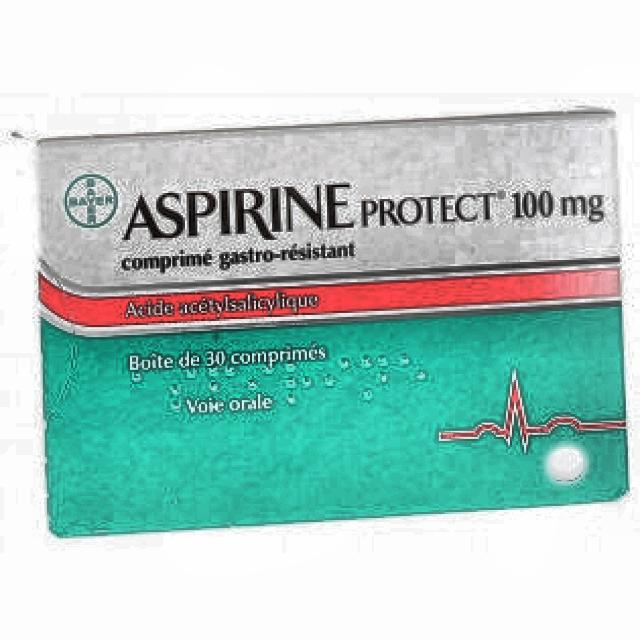Aspirin: (85, 173, 606, 244)
